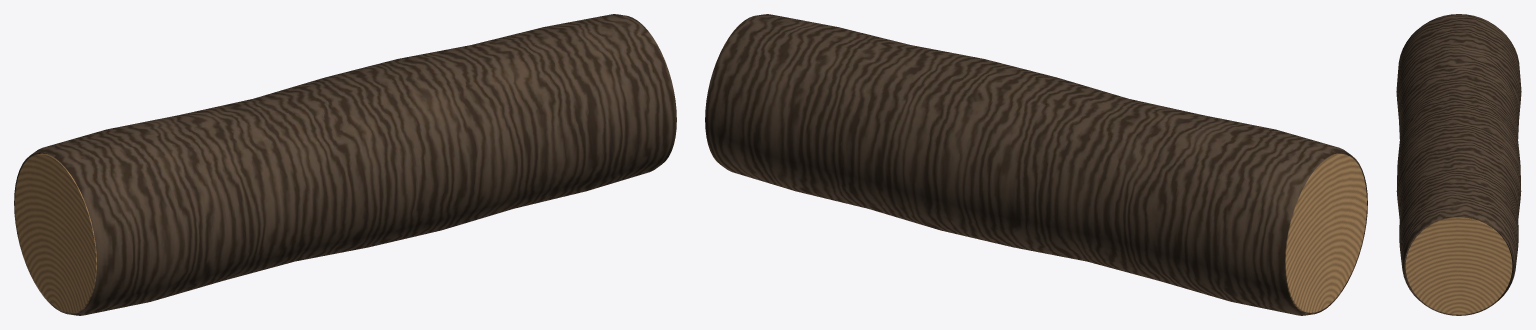
The model's file is oak-log.glb.
3 views of the same model, side by side, from view 1: azimuth 30°, elevation 25°; view 2: azimuth 150°, elevation 25°; view 3: azimuth 270°, elevation 25° (orthographic). The views are drawn at different scales.
Parts seen in each view (by area): view 1: bark, endgrain; view 2: bark, endgrain; view 3: bark, endgrain.
Part boxes in pixels (left/top/right/bottom): bark: left=14, top=14, right=676, bottom=315; endgrain: left=15, top=153, right=96, bottom=312; bark: left=705, top=14, right=1367, bottom=315; endgrain: left=1285, top=153, right=1366, bottom=312; bark: left=1396, top=14, right=1521, bottom=315; endgrain: left=1405, top=217, right=1512, bottom=314.
Bounding box in the file's own units: 1.4 × 0.3707 × 0.3707.
Materials: 2 (2 with a texture image).
